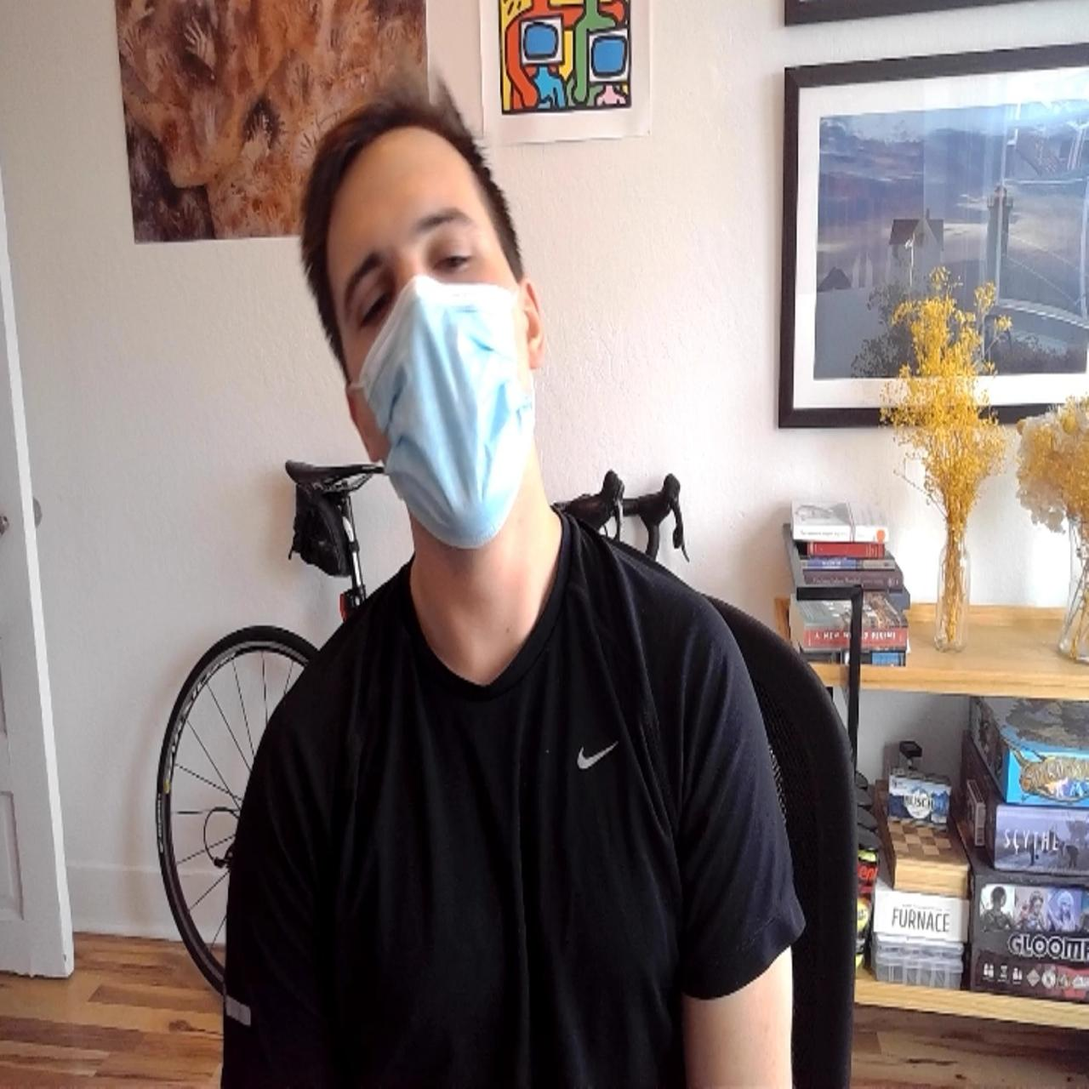NO_Safety_Vest: (319, 544, 686, 1089)
Person: (222, 93, 808, 1089)
